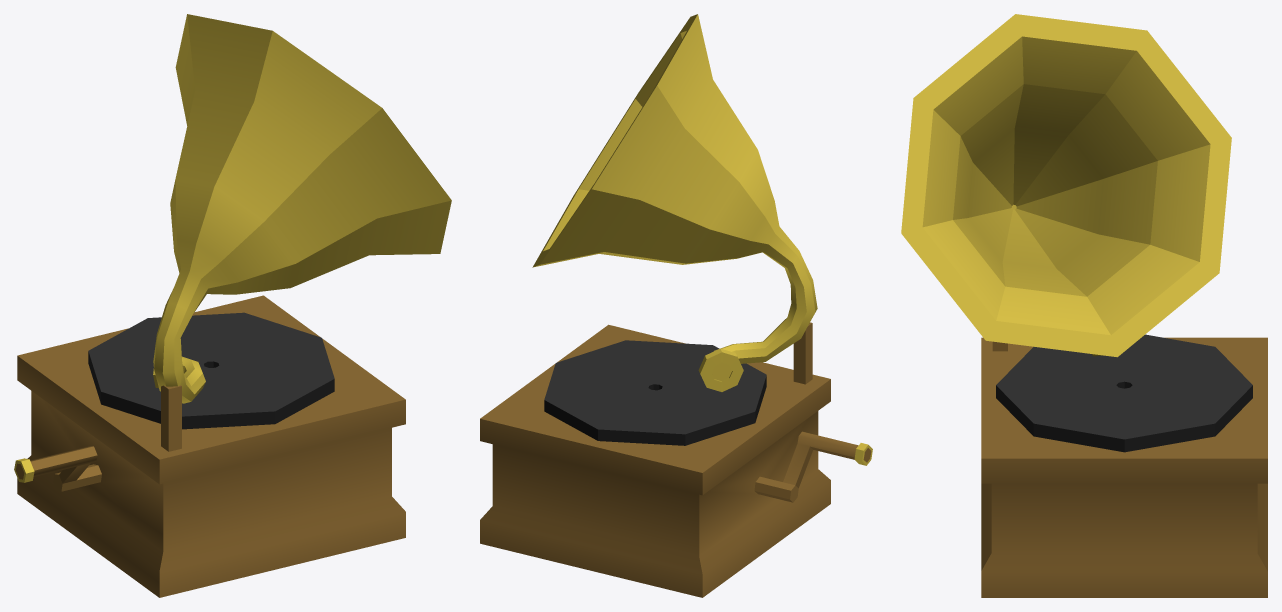
File: grammophone.fbx
3 views of the same model, side by side, from view 1: azimuth 30°, elevation 25°; view 2: azimuth 150°, elevation 25°; view 3: azimuth 270°, elevation 25° (orthographic). The views are drawn at different scales.
Visible parts, largest first — view 1: pCube196; view 2: pCube196; view 3: pCube196.
Boxes of the visible parts, box(x1,y1,x2,y2) form: pCube196: box(14, 14, 451, 597); pCube196: box(480, 14, 872, 597); pCube196: box(901, 14, 1267, 597).
Size of the model in its own units: 0.0527 by 0.0706 by 0.0445.
